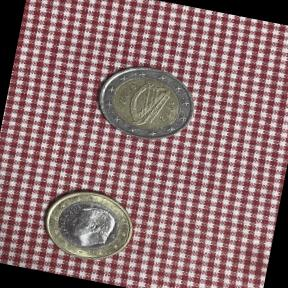1 Euro-B: (34, 178, 144, 270)
2 Euro-B: (86, 54, 204, 154)
